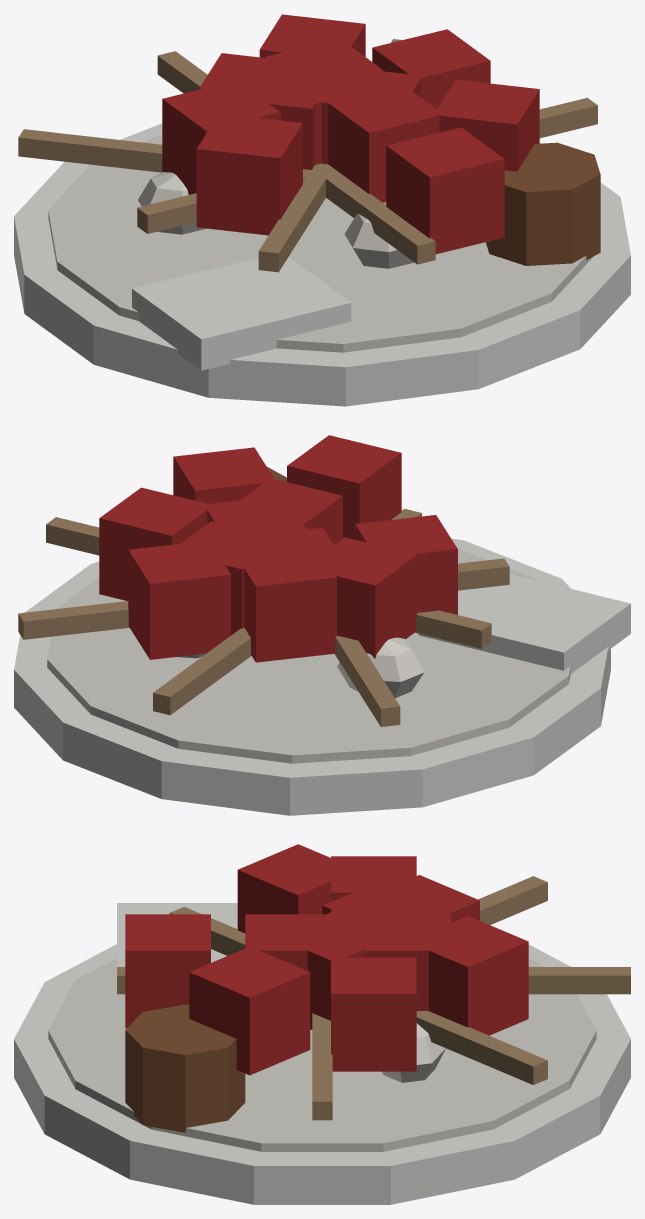
File: PRP_Skewer_ML_v001.glb
3 renders of one model, top to bottom at view 1: azimuth 30°, elevation 25°; view 2: azimuth 150°, elevation 25°; view 3: azimuth 270°, elevation 25°, orthographic. The views are drawn at different scales.
Parts seen in each view (by area): view 1: PRP_Skewer_ML_v001; view 2: PRP_Skewer_ML_v001; view 3: PRP_Skewer_ML_v001.
Part boxes in pixels (x1,y1,x2,y2): PRP_Skewer_ML_v001: (14, 14, 630, 406); PRP_Skewer_ML_v001: (14, 435, 630, 815); PRP_Skewer_ML_v001: (14, 844, 630, 1204).
Size of the model in its own units: 0.3555 by 0.1075 by 0.36.
